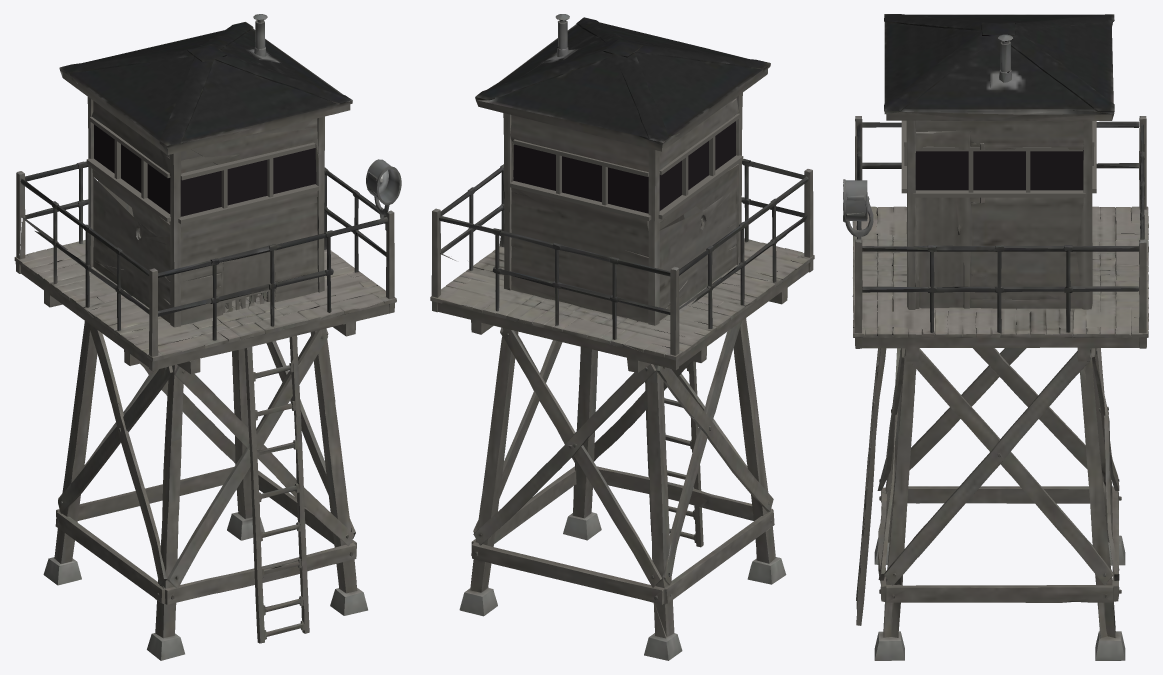
Rendered from guard_tower_v2.glb.
The picture shows the model from 3 angles, left to right: view 1: azimuth 30°, elevation 25°; view 2: azimuth 150°, elevation 25°; view 3: azimuth 270°, elevation 25°; orthographic projection. The views are drawn at different scales.
Visible parts, largest first — view 1: main; view 2: main; view 3: main.
Part boxes in pixels (<box>): main: <box>14,14,401,660</box>; main: <box>430,14,814,660</box>; main: <box>843,14,1148,660</box>.
Size of the model in its own units: 3.31 by 7.28 by 3.35.
3 materials, 1 textured.
